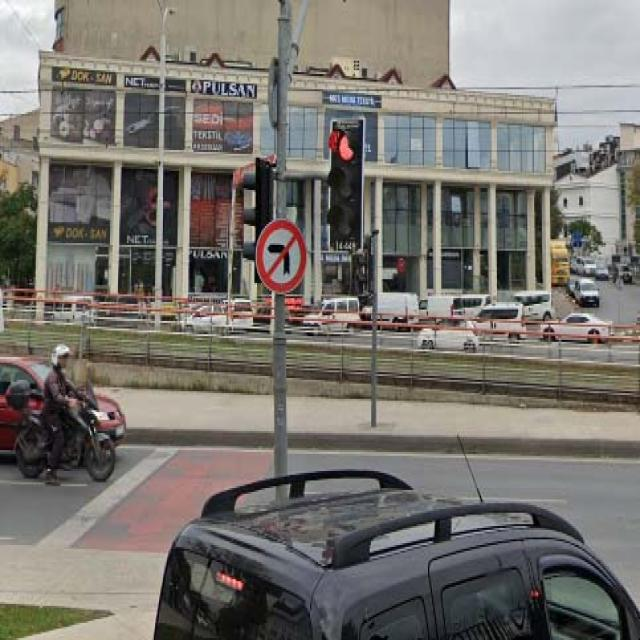kirmizi: (330, 120, 362, 248)
soladonulmez: (257, 220, 307, 294)
